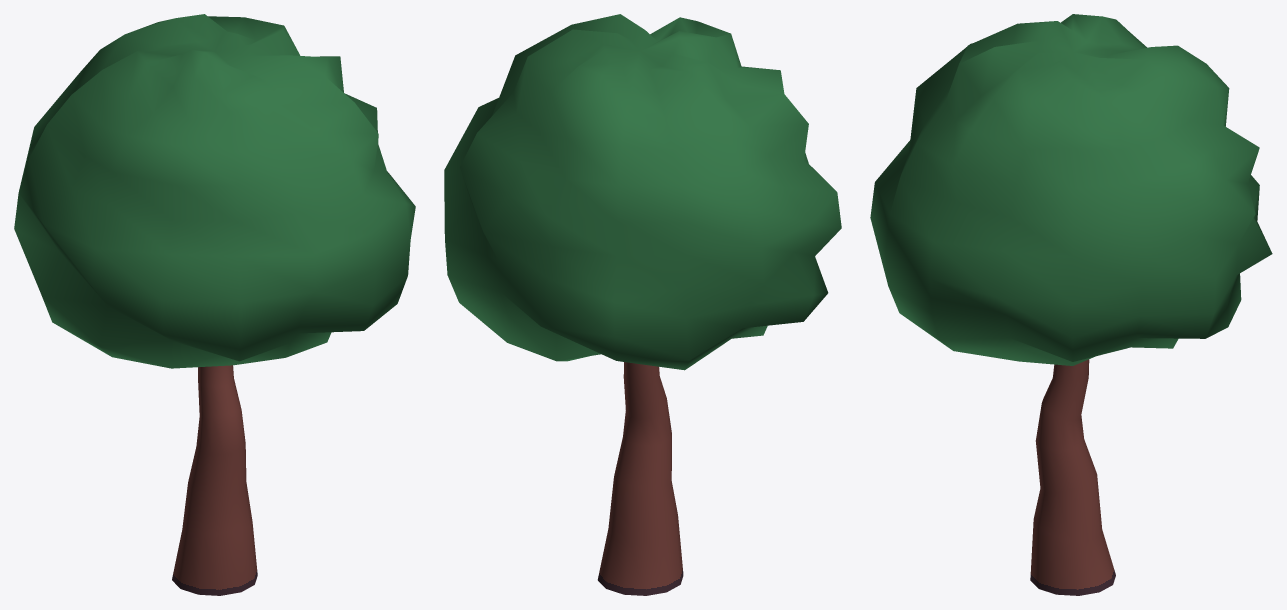
File: Arbol_03.fbx
3 views of the same model, side by side, from view 1: azimuth 30°, elevation 25°; view 2: azimuth 150°, elevation 25°; view 3: azimuth 270°, elevation 25° (orthographic).
Parts seen in each view (by area): view 1: Arbol_03; view 2: Arbol_03; view 3: Arbol_03.
Part boxes in pixels (<box>): Arbol_03: <box>14,14,415,595</box>; Arbol_03: <box>444,14,841,595</box>; Arbol_03: <box>870,14,1272,595</box>.
Size of the model in its own units: 1536 by 2282 by 1536.
